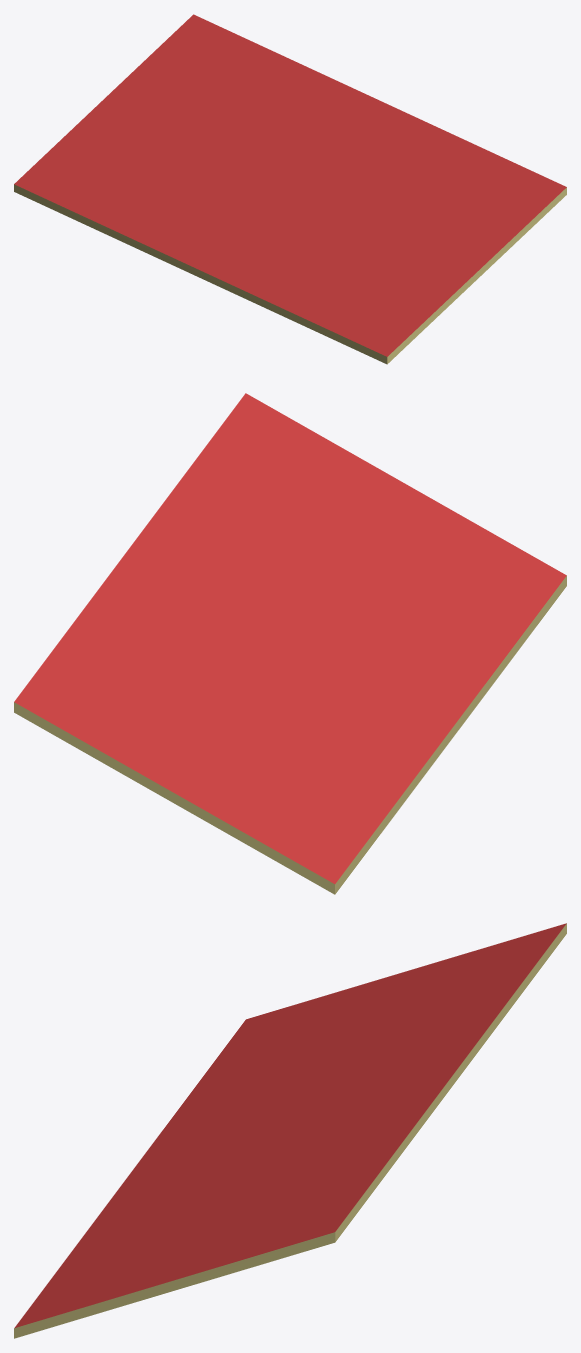
3 views of the same model, one above another, from view 1: azimuth 30°, elevation 25°; view 2: azimuth 150°, elevation 25°; view 3: azimuth 330°, elevation 25° (orthographic). The views are drawn at different scales.
Size of the model in its own units: 4.27 by 7.1 by 1.43.
